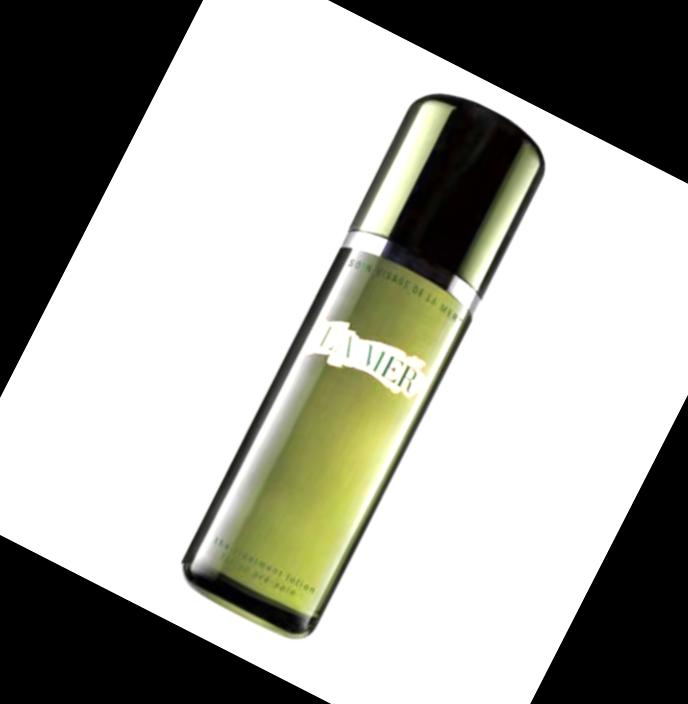cosmetic: (171, 83, 565, 649)
